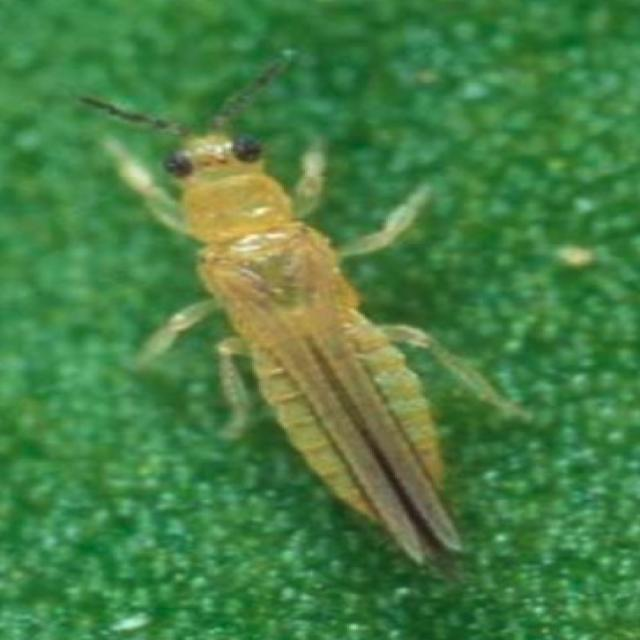Thrip-Adult-: (50, 21, 546, 577)
